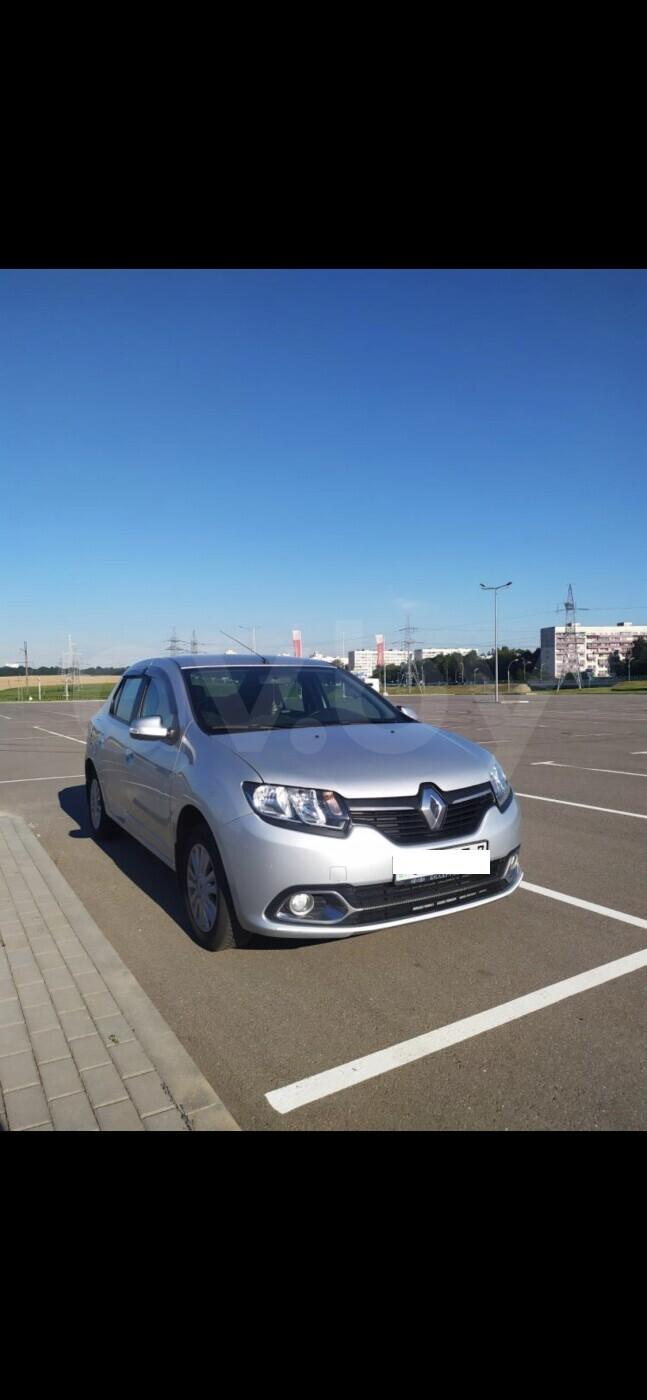Logan_2013-2018: (76, 648, 546, 974)
